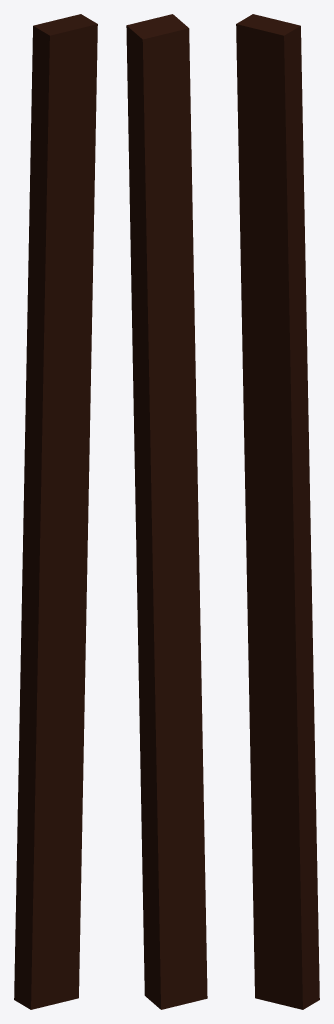
File: LV1_GrandPianoStand.fbx
3 renders of one model, left to right at view 1: azimuth 30°, elevation 25°; view 2: azimuth 210°, elevation 25°; view 3: azimuth 330°, elevation 25°, orthographic. The views are drawn at different scales.
Parts seen in each view (by area): view 1: polySurface15; view 2: polySurface15; view 3: polySurface15.
Part boxes in pixels (x1=…): polySurface15: x1=14, y1=14, x2=97, y2=1009; polySurface15: x1=126, y1=14, x2=207, y2=1009; polySurface15: x1=236, y1=14, x2=319, y2=1009.
Bounding box in the file's own units: 0.0753 × 1.49 × 0.0975.
